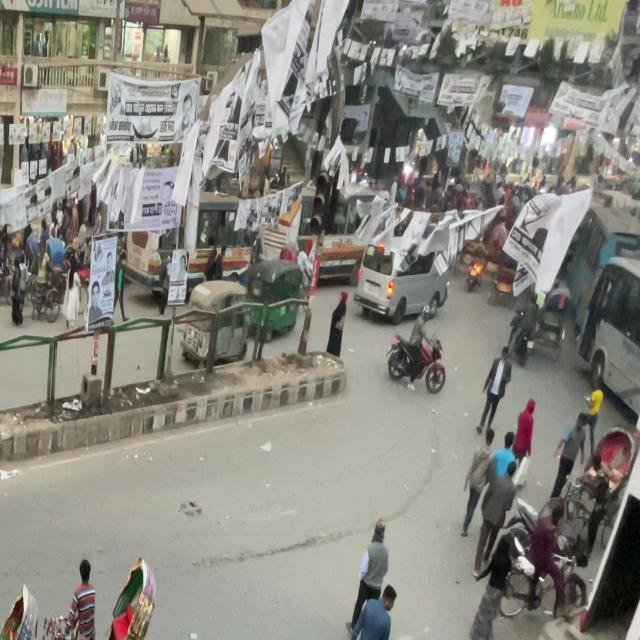car: (504, 192, 613, 318), (353, 226, 453, 324)
motorbike: (388, 334, 450, 396)
